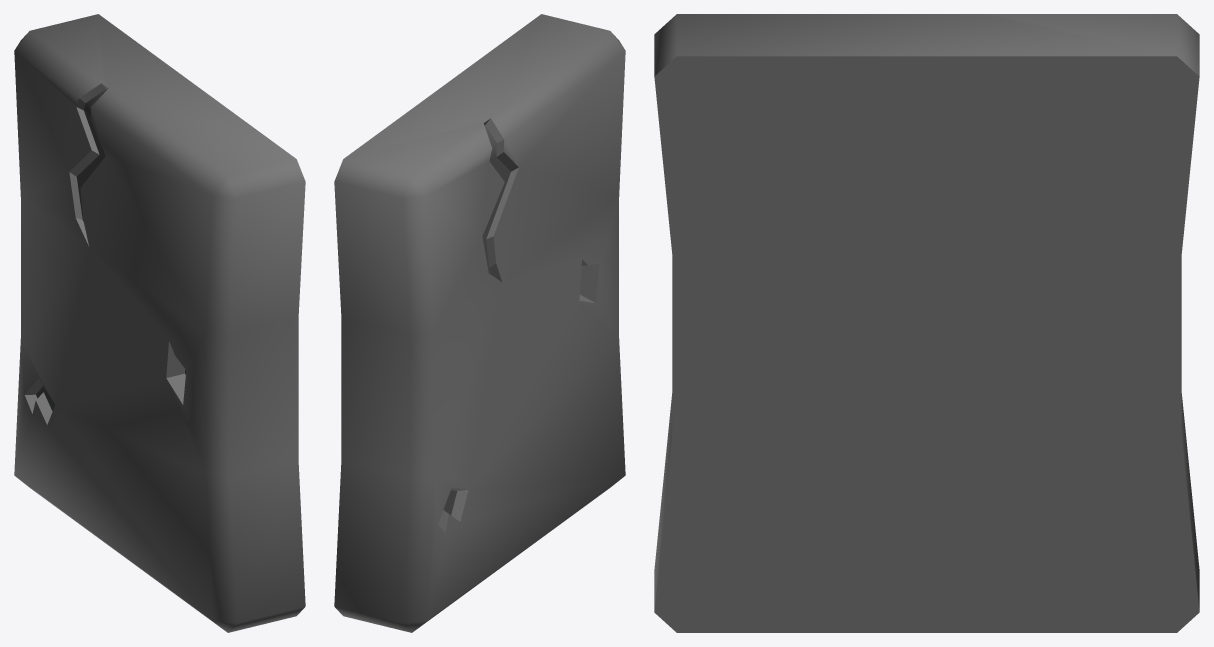
File: Table_2_3.glb
The picture shows the model from 3 angles, left to right: view 1: azimuth 30°, elevation 25°; view 2: azimuth 150°, elevation 25°; view 3: azimuth 270°, elevation 25°; orthographic projection. The views are drawn at different scales.
Visible parts, largest first — view 1: Table_2_3; view 2: Table_2_3; view 3: Table_2_3.
Part boxes in pixels (x1,y1,x2,y2): Table_2_3: [14, 14, 305, 632]; Table_2_3: [334, 14, 625, 632]; Table_2_3: [654, 14, 1199, 632].
Bounding box in the file's own units: 0.0894 × 0.4635 × 0.3972.
1 material, 1 textured.
